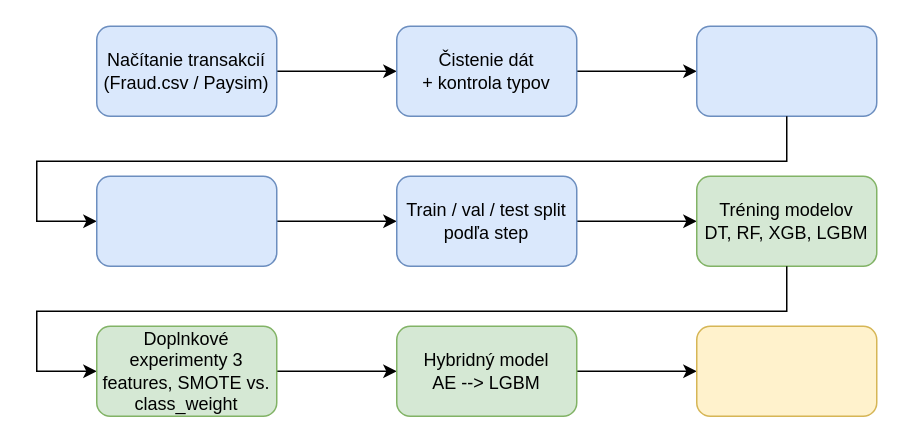
This 903x443 diagram has some shape labels left out. The shapes that lost their labels are listed below. From the top down, each one's centre as x and y in pixels, then its label:
point (786, 70): EDA a analýza nerovnováhy
point (186, 220): Feature engineering (balance errors, zero flags, isMerchantDest)
point (786, 370): AUPRC, ROC-AUC, SHAP, interpretácia výsledkov
